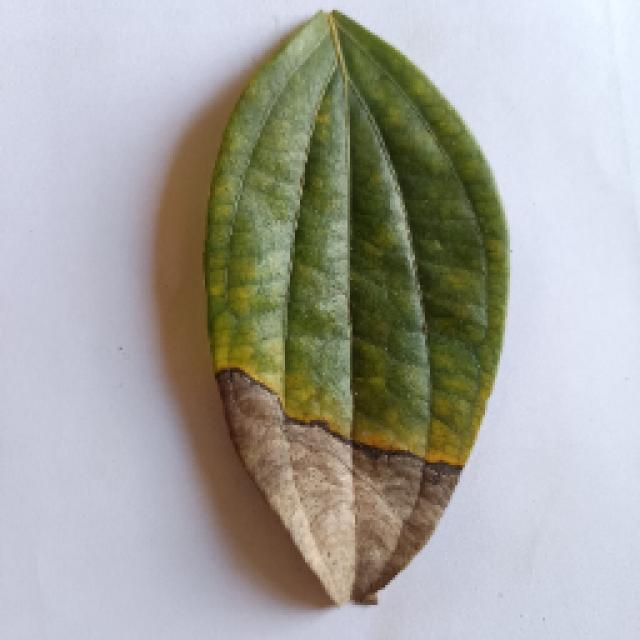footrot: (200, 13, 512, 605)
